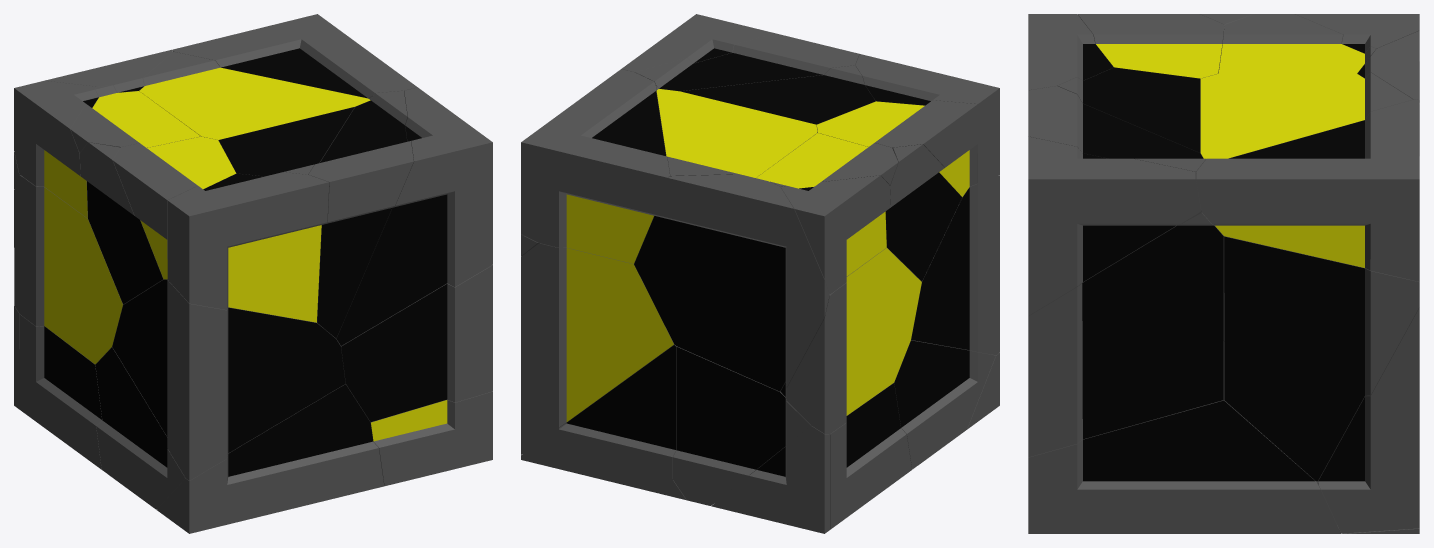
File: Crate_Fractured.fbx
The picture shows the model from 3 angles, left to right: view 1: azimuth 30°, elevation 25°; view 2: azimuth 150°, elevation 25°; view 3: azimuth 270°, elevation 25°; orthographic projection. The views are drawn at different scales.
Parts seen in each view (by area): view 1: Cube_cell.017, Cube_cell.016, Cube_cell.003, Cube_cell.014, Cube_cell.001, Cube_cell.024, Cube_cell.011, Cube_cell, Cube_cell.006, Cube_cell.002, Cube_cell.015, Cube_cell.009 (+7 smaller); view 2: Cube_cell.012, Cube_cell.006, Cube_cell.018, Cube_cell.011, Cube_cell.007, Cube_cell.021, Cube_cell.017, Cube_cell, Cube_cell.009, Cube_cell.013, Cube_cell.022, Cube_cell.002 (+8 smaller); view 3: Cube_cell.001, Cube_cell.004, Cube_cell.015, Cube_cell.006, Cube_cell.003, Cube_cell.018, Cube_cell, Cube_cell.022, Cube_cell.019, Cube_cell.024, Cube_cell.008, Cube_cell.016 (+2 smaller).
Part boxes in pixels (bbox=[...]): Cube_cell.017: bbox=[112, 279, 345, 480]; Cube_cell.016: bbox=[167, 172, 329, 322]; Cube_cell.003: bbox=[335, 87, 492, 345]; Cube_cell.014: bbox=[157, 384, 384, 533]; Cube_cell.001: bbox=[340, 265, 492, 421]; Cube_cell.024: bbox=[308, 90, 413, 338]; Cube_cell.011: bbox=[14, 175, 123, 364]; Cube_cell: bbox=[139, 52, 372, 140]; Cube_cell.006: bbox=[172, 14, 417, 98]; Cube_cell.002: bbox=[19, 314, 102, 469]; Cube_cell.015: bbox=[370, 391, 492, 486]; Cube_cell.009: bbox=[95, 347, 185, 509]; Cube_cell.012: bbox=[634, 174, 829, 391]; Cube_cell.006: bbox=[521, 69, 669, 263]; Cube_cell.018: bbox=[521, 243, 674, 454]; Cube_cell.011: bbox=[780, 247, 921, 433]; Cube_cell.007: bbox=[673, 346, 811, 505]; Cube_cell.021: bbox=[521, 345, 676, 493]; Cube_cell.017: bbox=[911, 175, 999, 355]; Cube_cell: bbox=[656, 86, 817, 177]; Cube_cell.009: bbox=[894, 340, 995, 468]; Cube_cell.013: bbox=[780, 175, 890, 294]; Cube_cell.022: bbox=[817, 100, 977, 197]; Cube_cell.002: bbox=[830, 383, 911, 529]; Cube_cell.001: bbox=[1028, 210, 1223, 457]; Cube_cell.004: bbox=[1224, 236, 1419, 482]; Cube_cell.015: bbox=[1028, 341, 1340, 533]; Cube_cell.006: bbox=[1196, 99, 1419, 281]; Cube_cell.003: bbox=[1028, 136, 1201, 315]; Cube_cell.018: bbox=[1317, 307, 1419, 533]; Cube_cell: bbox=[1200, 72, 1412, 292]; Cube_cell.022: bbox=[1077, 14, 1224, 153]; Cube_cell.019: bbox=[1218, 14, 1375, 73]; Cube_cell.024: bbox=[1028, 86, 1205, 173]; Cube_cell.008: bbox=[1057, 67, 1200, 152]; Cube_cell.016: bbox=[1028, 14, 1113, 90].
Bounding box in the file's own units: 200 × 200 × 200.
